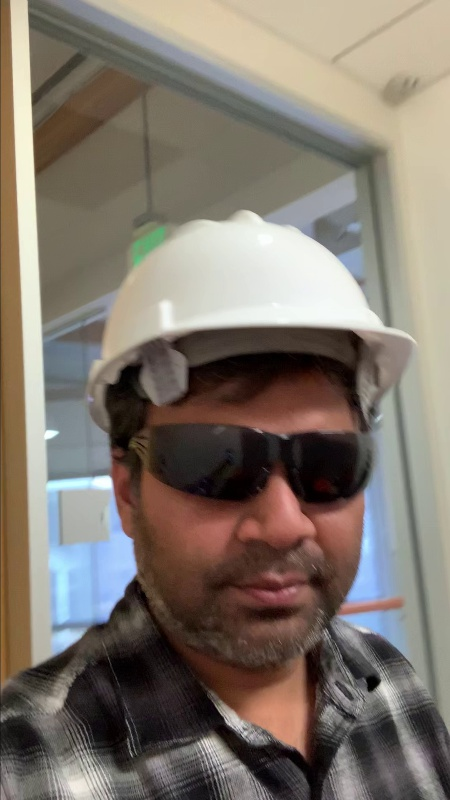glasses: (148, 413, 369, 506)
helmet: (99, 215, 405, 359)
